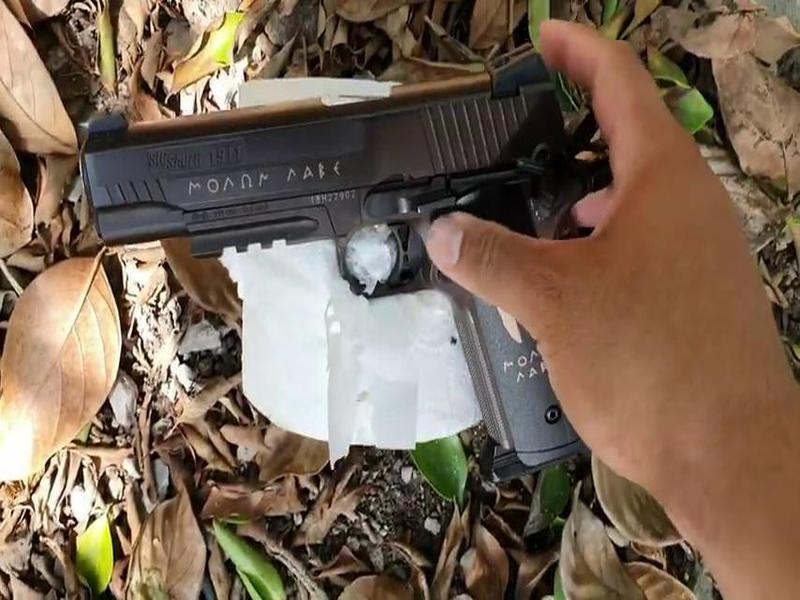Pistola: (58, 71, 602, 477)
